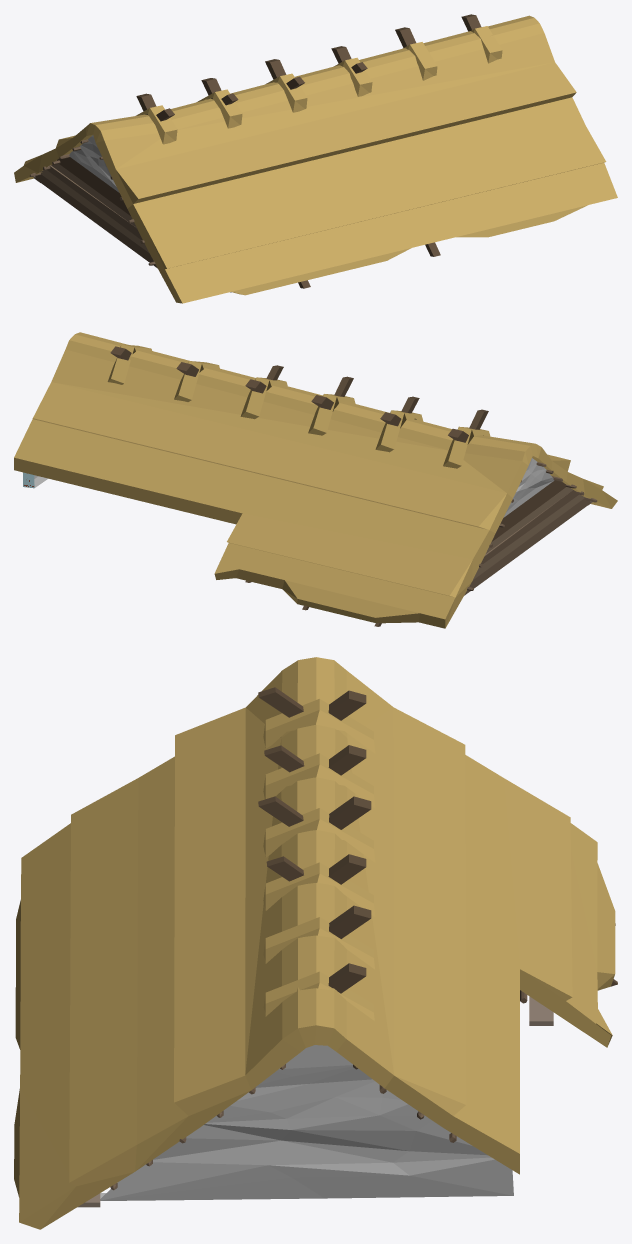
File: EA03_Village_Hut_Roof_Cut_01a.fbx
3 views of the same model, one above another, from view 1: azimuth 30°, elevation 25°; view 2: azimuth 150°, elevation 25°; view 3: azimuth 270°, elevation 25° (orthographic). The views are drawn at different scales.
Parts seen in each view (by area): view 1: EA03_Village_Hut_Roof_Cut_01a_LOD0; view 2: EA03_Village_Hut_Roof_Cut_01a_LOD0; view 3: EA03_Village_Hut_Roof_Cut_01a_LOD0.
Part boxes in pixels (<box>): EA03_Village_Hut_Roof_Cut_01a_LOD0: <box>14,14,617,303</box>; EA03_Village_Hut_Roof_Cut_01a_LOD0: <box>14,332,617,628</box>; EA03_Village_Hut_Roof_Cut_01a_LOD0: <box>14,657,617,1229</box>.
Size of what is drawn, in the model's own units: 16.53 by 5.05 by 11.3.
